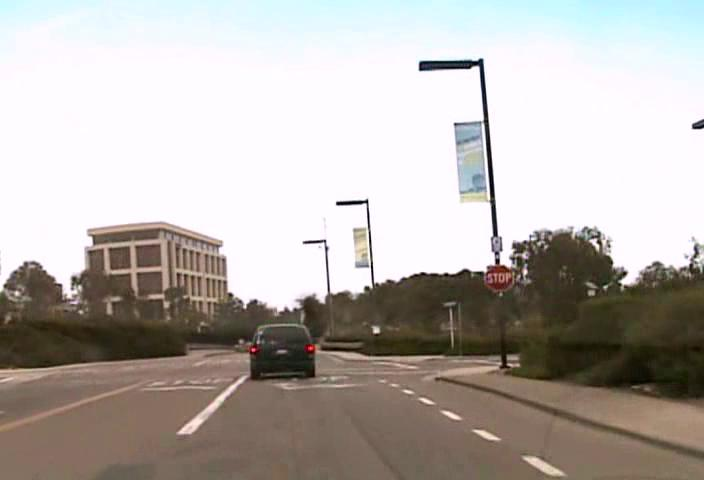stop: (484, 264, 513, 292)
